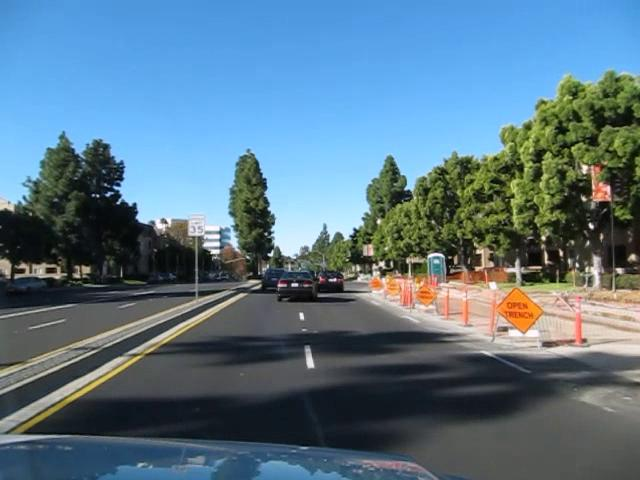speedLimit35: (187, 214, 204, 235)
